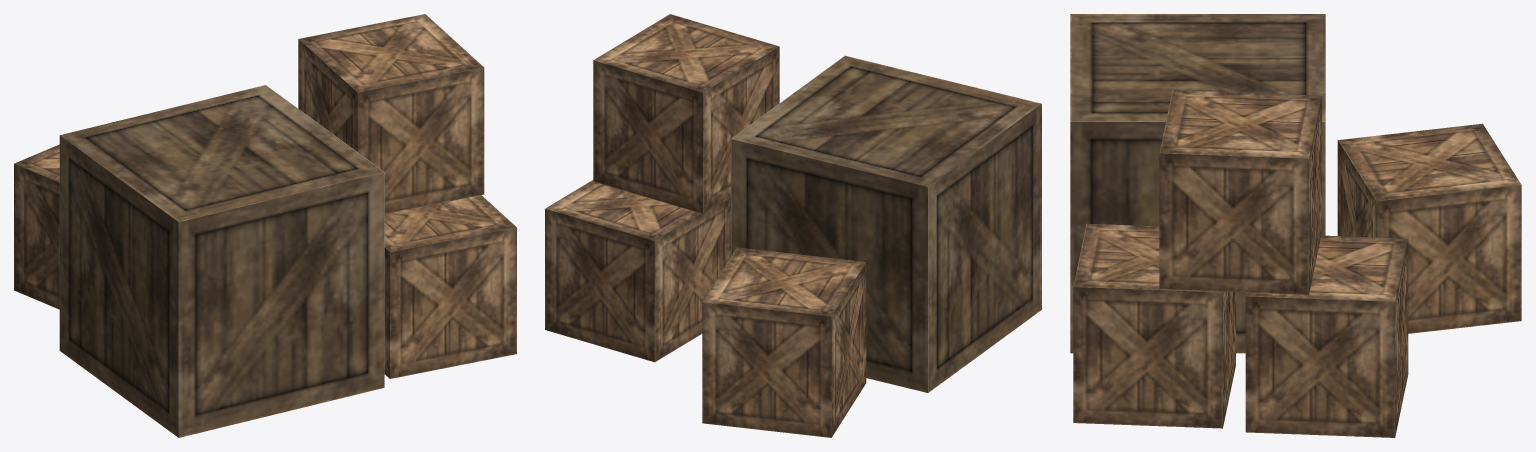
File: Crates_001.dae
3 views of the same model, side by side, from view 1: azimuth 30°, elevation 25°; view 2: azimuth 150°, elevation 25°; view 3: azimuth 270°, elevation 25° (orthographic). The views are drawn at different scales.
Visible parts, largest first — view 1: Crates_001; view 2: Crates_001; view 3: Crates_001.
Boxes of the visible parts, x1,y1,x2,y2 form: Crates_001: (14, 14, 516, 437); Crates_001: (545, 14, 1041, 437); Crates_001: (1070, 14, 1521, 437).
Size of the model in its own units: 10.2 by 10.1 by 6.76.
